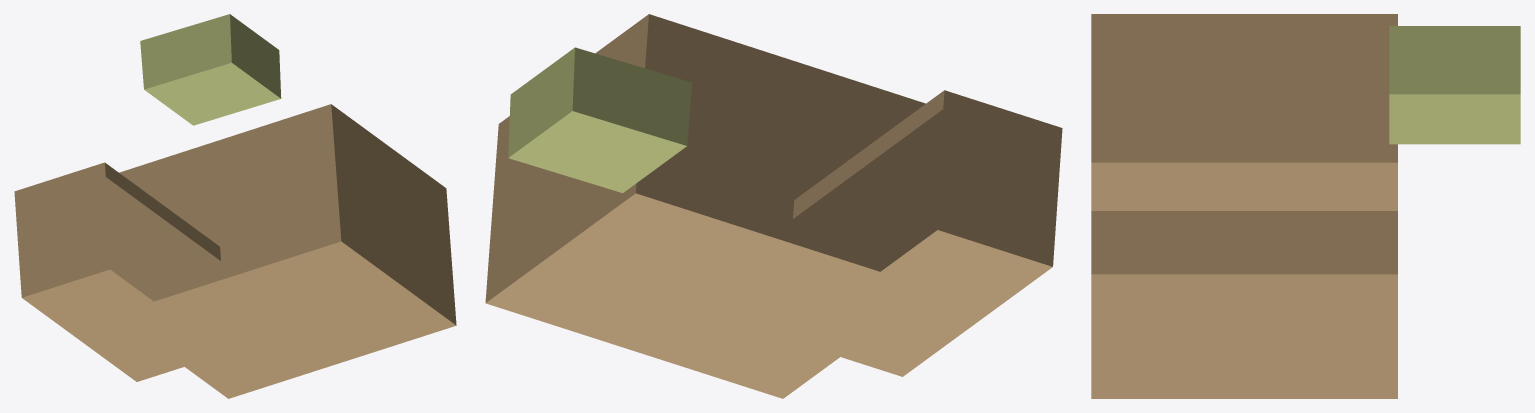
The picture shows the model from 3 angles, left to right: view 1: azimuth 30°, elevation 25°; view 2: azimuth 150°, elevation 25°; view 3: azimuth 270°, elevation 25°; orthographic projection. The views are drawn at different scales.
Parts seen in each view (by area): view 1: 0_0_1_1_3_2_3_2; view 2: 0_0_1_1_3_2_3_2; view 3: 0_0_1_1_3_2_3_2.
Part boxes in pixels (x1,y1,x2,y2): 0_0_1_1_3_2_3_2: (14,14,456,398); 0_0_1_1_3_2_3_2: (485,14,1062,398); 0_0_1_1_3_2_3_2: (1091,14,1520,398).
Bounding box in the file's own units: 34.42 × 22.86 × 29.4.
